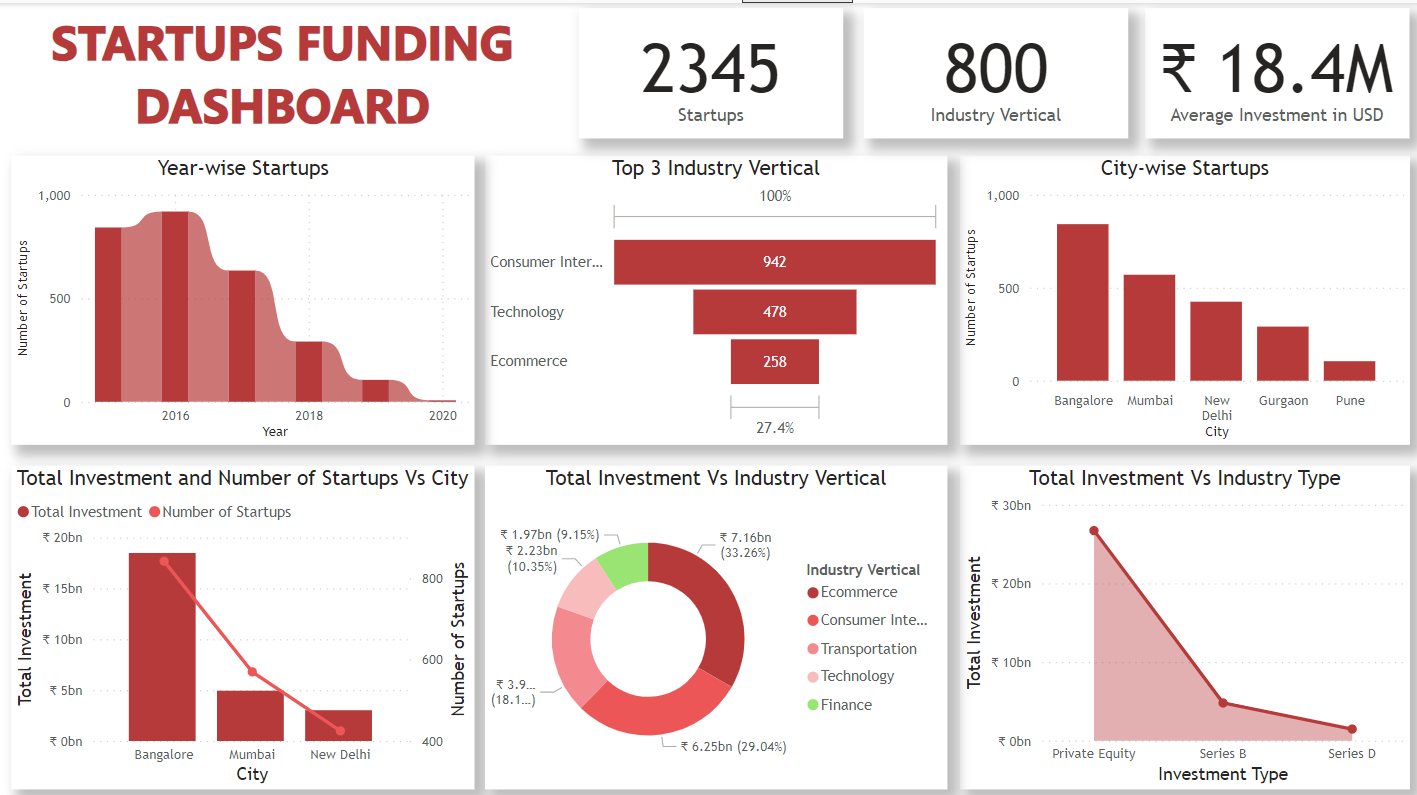

The page's visual inventory and layout, read from the dashboard file:
{"tool":"powerbi","page":{"name":"Page 1","canvas":[1280,720],"ordinal":0},"visuals":[{"type":"lineClusteredColumnComboChart","title":"Total Investment and Number of Startups Vs City","fields":{"Category":["startup_funding.City  Location"],"Y":["Sum(startup_funding.Amount in USD)"],"Y2":["CountNonNull(startup_funding.Startup Name)"]},"box":[9.8,416.5,417.9,291.7],"z":0},{"type":"textbox","box":[0,0,509,137.4],"z":1000},{"type":"stackedAreaChart","title":"Total Investment Vs Industry Type","fields":{"Category":["startup_funding.InvestmentnType"],"Y":["Sum(startup_funding.Amount in USD)"]},"box":[865.2,416.5,405.3,291.7],"z":2000},{"type":"clusteredColumnChart","title":"City-wise Startups","fields":{"Y":["CountNonNull(startup_funding.Startup Name)"],"Category":["startup_funding.City  Location"]},"box":[865.2,137.4,405.3,260.8],"z":3000},{"type":"card","fields":{"Values":["Avg(startup_funding.Amount in USD)"]},"box":[1032.1,4.2,238.4,117.8],"z":4000},{"type":"donutChart","title":"Total Investment Vs Industry Vertical","fields":{"Category":["startup_funding.Industry Vertical"],"Y":["Sum(startup_funding.Amount in USD)"]},"box":[437.5,416.5,416.5,291.7],"z":5000},{"type":"funnel","title":"Top 3 Industry Vertical","fields":{"Category":["startup_funding.Industry Vertical"],"Y":["CountNonNull(startup_funding.Startup Name)"]},"box":[437.5,137.4,416.5,260.8],"z":6000},{"type":"card","fields":{"Values":["Count(startup_funding.Startup Name)"]},"box":[521.6,4.2,238.4,117.8],"z":7000},{"type":"card","fields":{"Values":["Count(startup_funding.Industry Vertical)"]},"box":[778.3,4.2,238.4,117.8],"z":8000},{"type":"ribbonChart","title":"Year-wise Startups","fields":{"Category":["startup_funding.Date dd/mm/yyyy.Variation.Date Hierarchy.Year"],"Y":["Count(startup_funding.Startup Name)"]},"box":[9.8,137.4,417.9,260.8],"z":9000}]}

Visuals, with their boxes in screenshot pixels (x1, y1, x2, y2), scaled from the page's 1280x720 canvas onto the 1417x795 screenshot:
"Total Investment and Number of Startups Vs City" lineClusteredColumnComboChart: (11,460,473,782)
textbox: (0,0,563,152)
"Total Investment Vs Industry Type" stackedAreaChart: (958,460,1406,782)
"City-wise Startups" clusteredColumnChart: (958,152,1406,440)
card - Avg(startup_funding.Amount in USD): (1143,5,1406,135)
"Total Investment Vs Industry Vertical" donutChart: (484,460,945,782)
"Top 3 Industry Vertical" funnel: (484,152,945,440)
card - Count(startup_funding.Startup Name): (577,5,841,135)
card - Count(startup_funding.Industry Vertical): (862,5,1126,135)
"Year-wise Startups" ribbonChart: (11,152,473,440)
